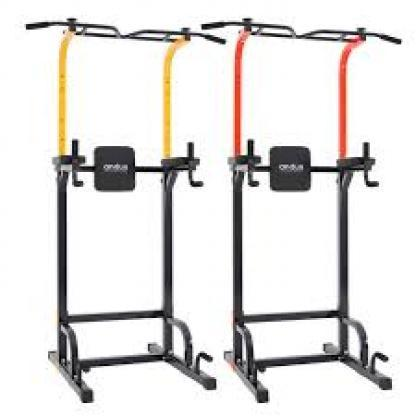chinning dipping: (197, 18, 402, 405), (24, 16, 220, 404)
